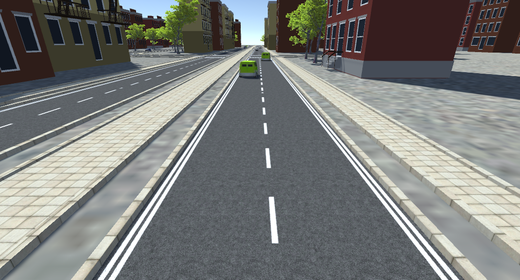centerstrip: (2, 66, 189, 128), (256, 61, 283, 252)
sidestripe: (286, 81, 457, 280), (94, 78, 236, 276)
